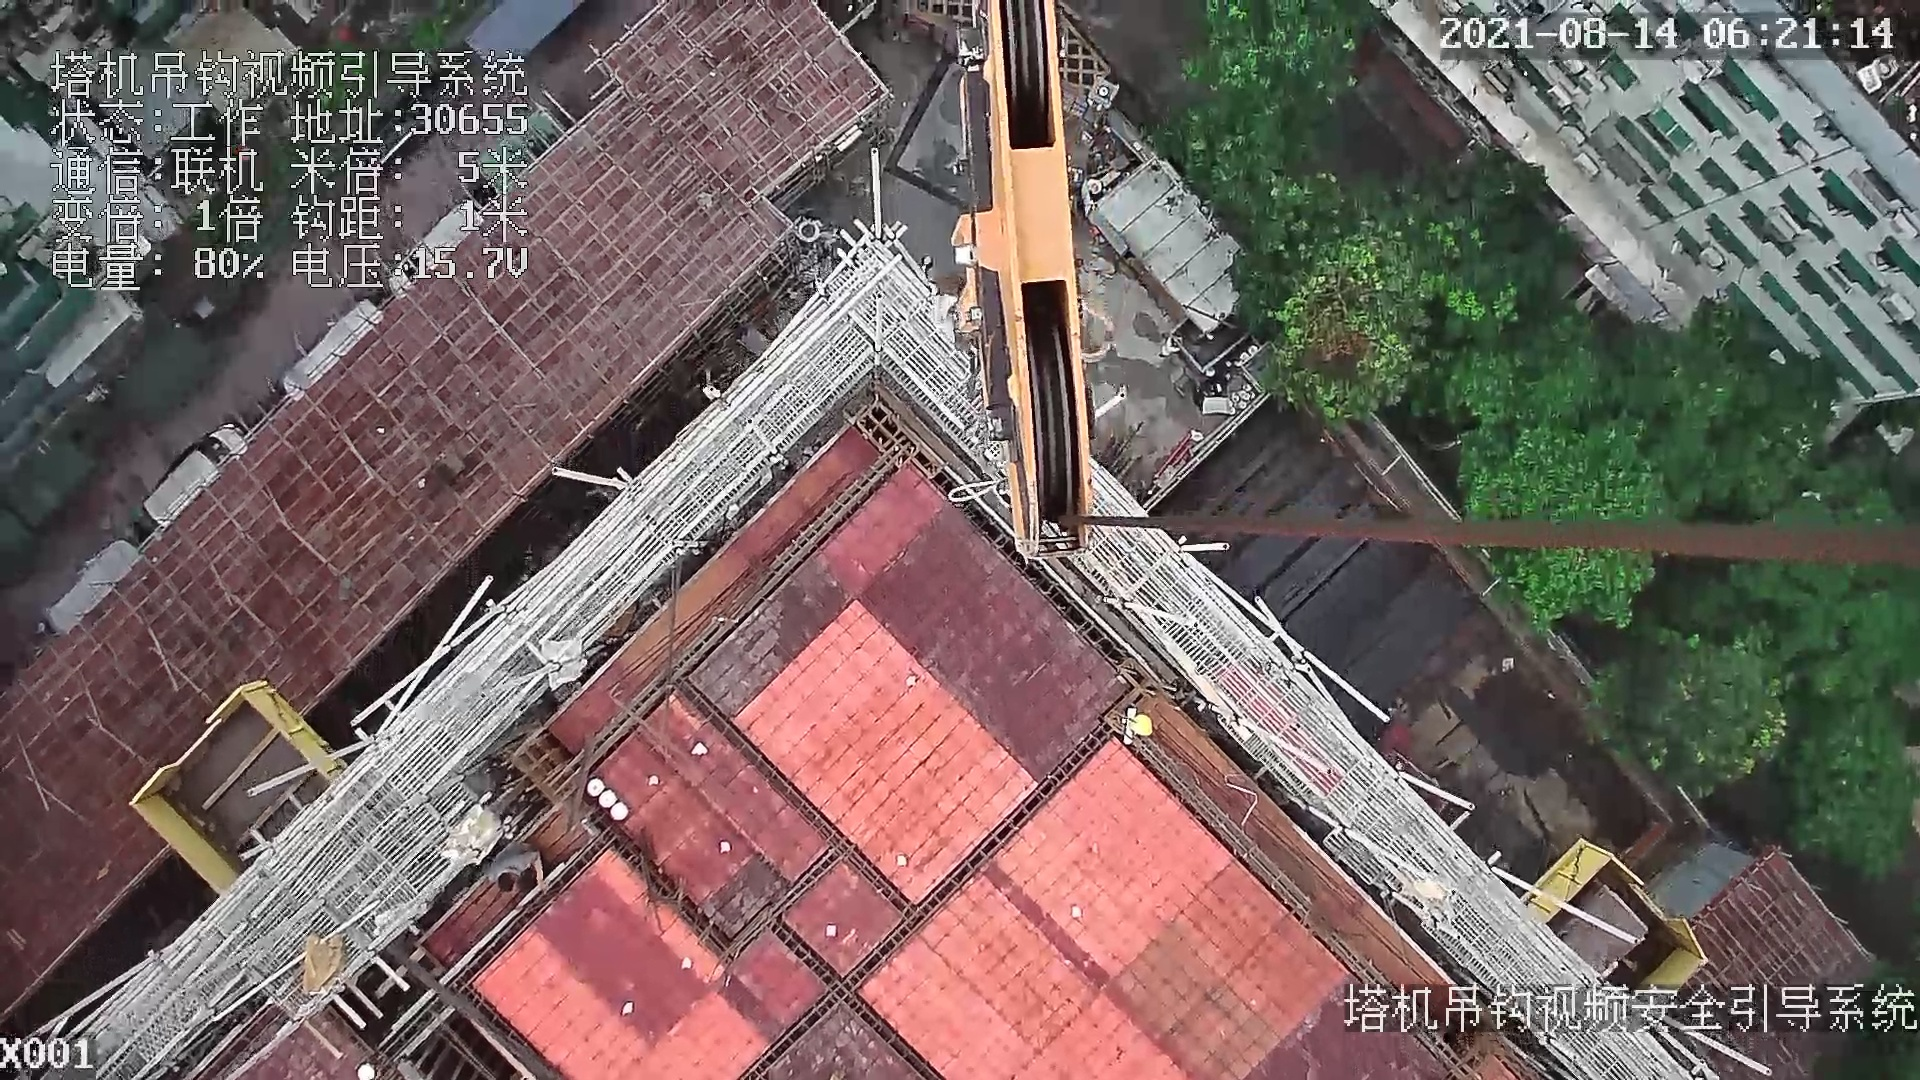helmet: (1124, 709, 1159, 754)
hook: (958, 1, 1098, 566)
person: (479, 849, 546, 896)
